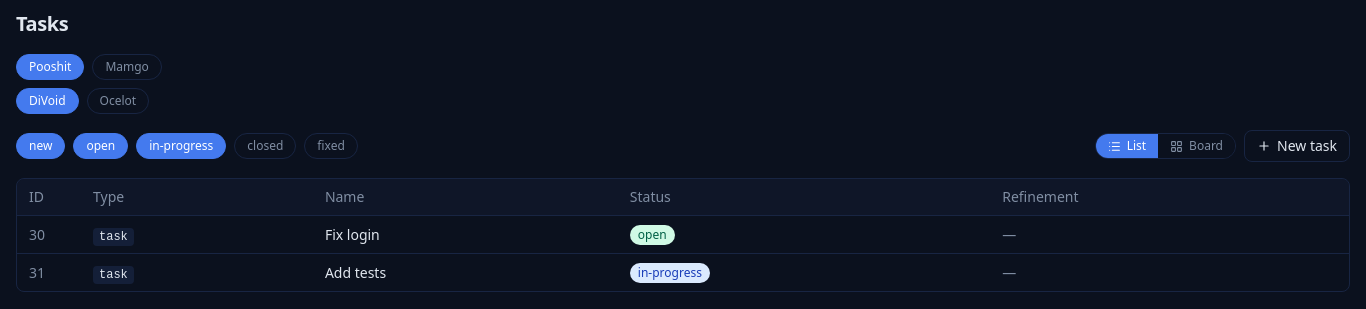
Test case: Test 5 — Clicking an org pill does NOT auto-navigate › positive: click Mamgo org → URL stays /tasks/projects/3, project row shows Mamgo projects
This screenshot has width=1366, height=309.
Note: Click Mamgo org pill.
Click the button with test id "org-pill-2" at (127, 67), box [92, 54, 162, 80]
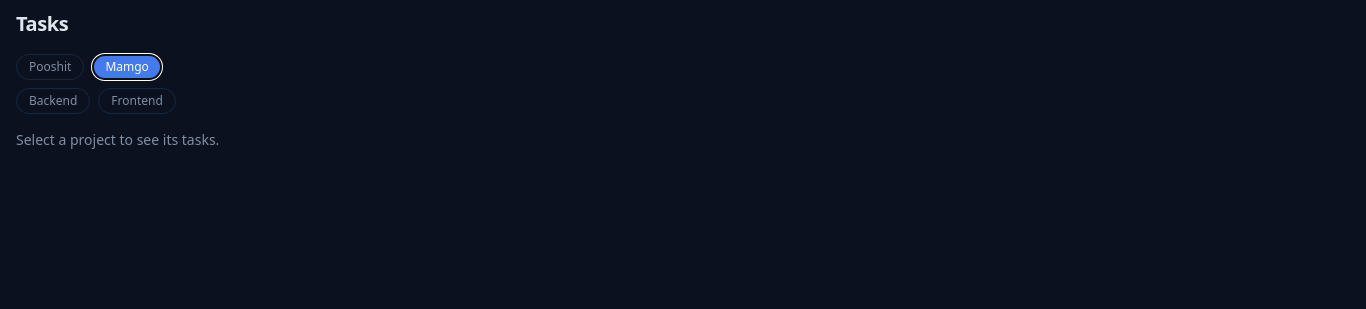
Check: the button "Backend" is shown, box [16, 88, 90, 114]
Check: the button "Frontend" is shown, box [98, 88, 176, 114]
Check: the text "Select a project to see its tasks." is shown, box [16, 130, 219, 149]
